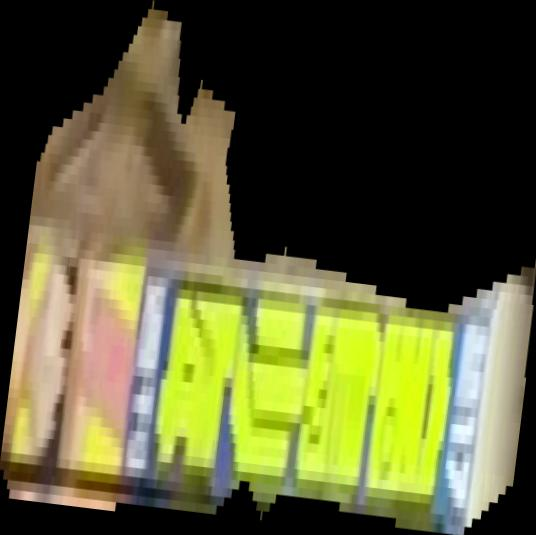flat: (1, 1, 536, 535)
